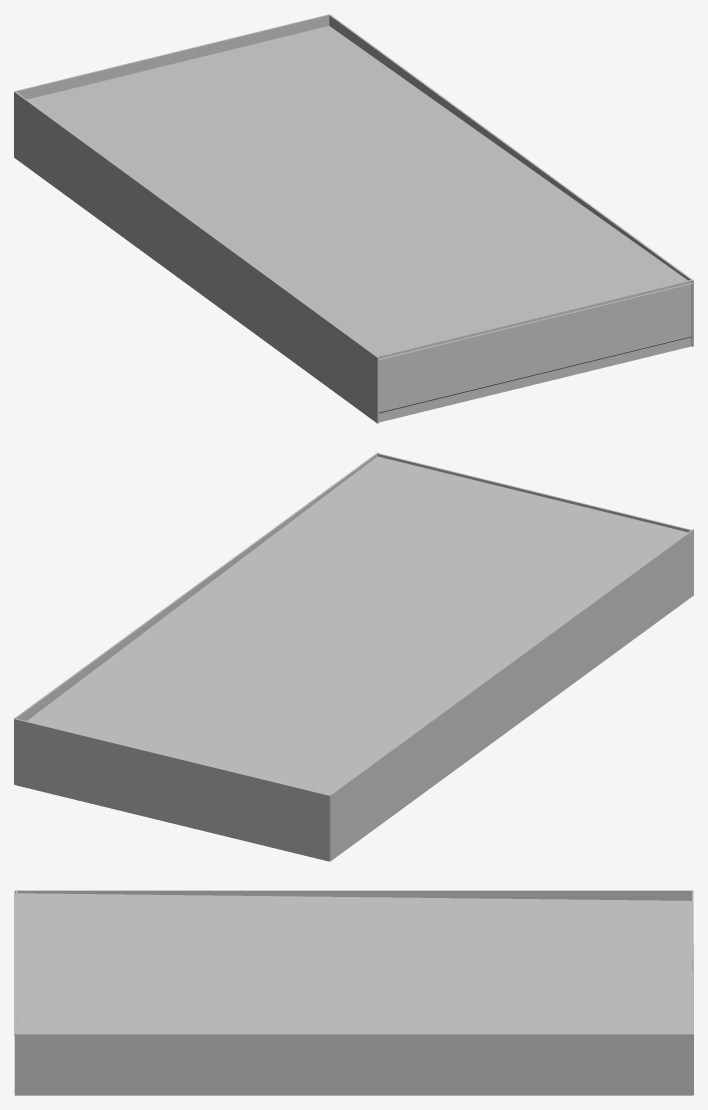
3 renders of one model, top to bottom at view 1: azimuth 30°, elevation 25°; view 2: azimuth 150°, elevation 25°; view 3: azimuth 270°, elevation 25°, orthographic. The views are drawn at different scales.
Visible parts, largest first — view 1: Ceil, Wall left, Wall front, Wall back, Wall right; view 2: Ceil, Wall left, Wall back, Wall right, Wall front; view 3: Ceil, Wall right, Wall left, Wall back.
Boxes of the visible parts, x1,y1,x2,y2 form: Ceil: (27,26,693,360); Wall left: (14,91,378,423); Wall front: (377,280,691,422); Wall back: (14,14,329,99); Wall right: (329,14,693,346); Ceil: (27,456,687,794); Wall left: (329,529,693,861); Wall back: (14,718,329,861); Wall right: (14,452,378,783); Wall front: (377,453,691,532); Ceil: (14,892,692,1036); Wall right: (14,1033,692,1095); Wall left: (14,890,692,900); Wall back: (692,890,693,1095).
Size of what is drawn, in the model's own units: 100 by 20 by 200.
